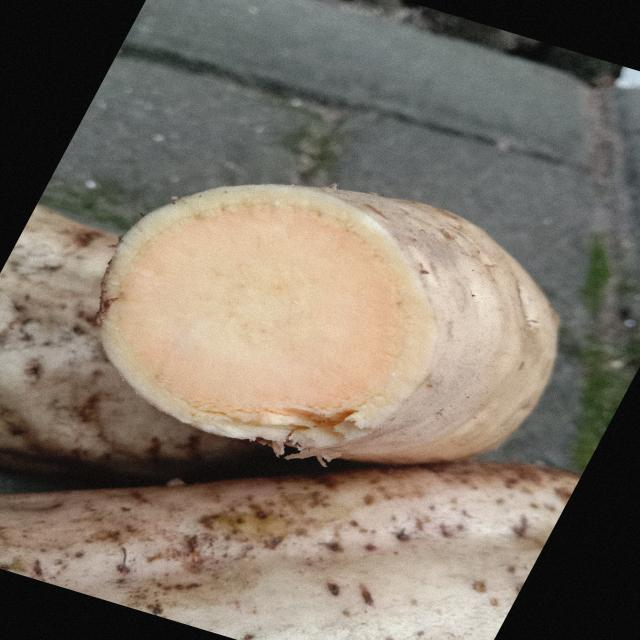Healthy Sweet Potato: (102, 185, 433, 449)
